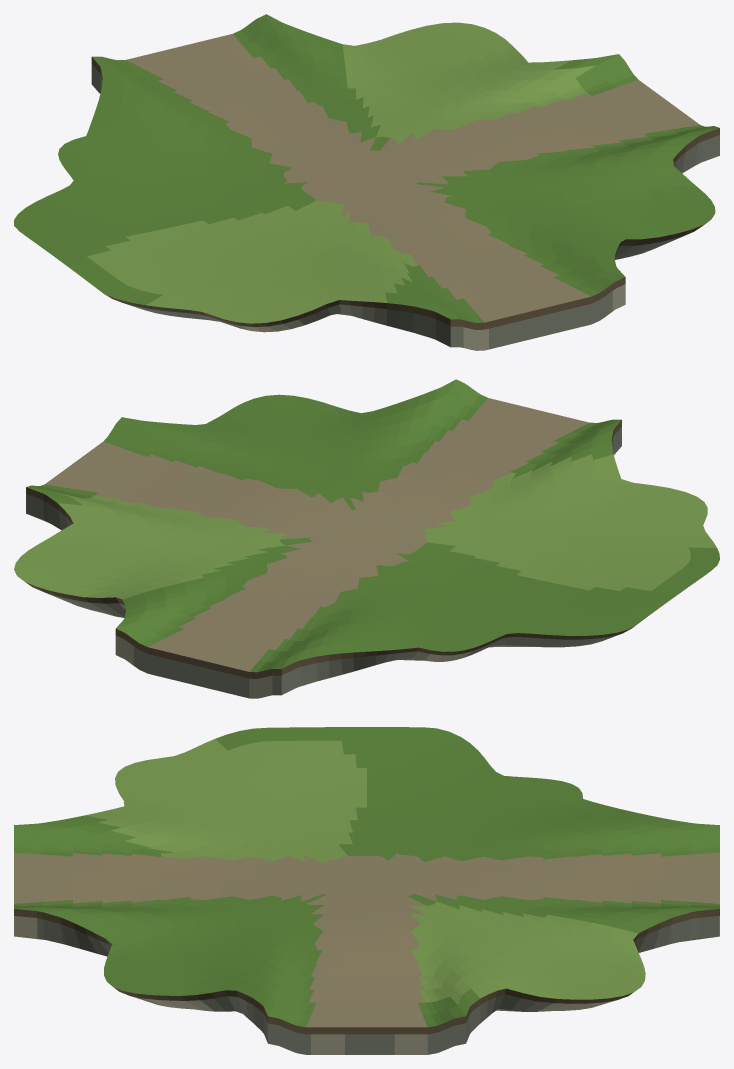
The model's file is mushroom_glen_structure.fbx.
3 renders of one model, top to bottom at view 1: azimuth 30°, elevation 25°; view 2: azimuth 150°, elevation 25°; view 3: azimuth 270°, elevation 25°, orthographic. The views are drawn at different scales.
Parts seen in each view (by area): view 1: chunk_mushroom_glen; view 2: chunk_mushroom_glen; view 3: chunk_mushroom_glen.
Part boxes in pixels (x1,y1,x2,y2): chunk_mushroom_glen: [14, 14, 719, 350]; chunk_mushroom_glen: [14, 379, 719, 698]; chunk_mushroom_glen: [14, 727, 719, 1054].
Bounding box in the file's own units: 256 × 43.5 × 256.
